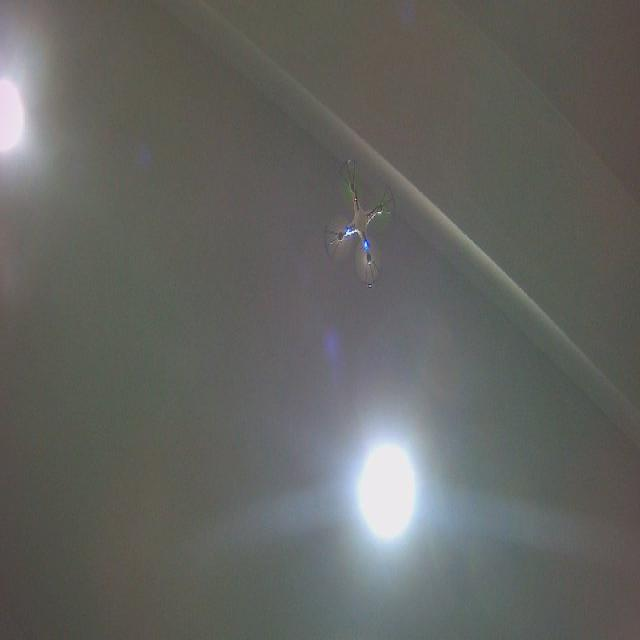drone: (320, 154, 399, 290)
